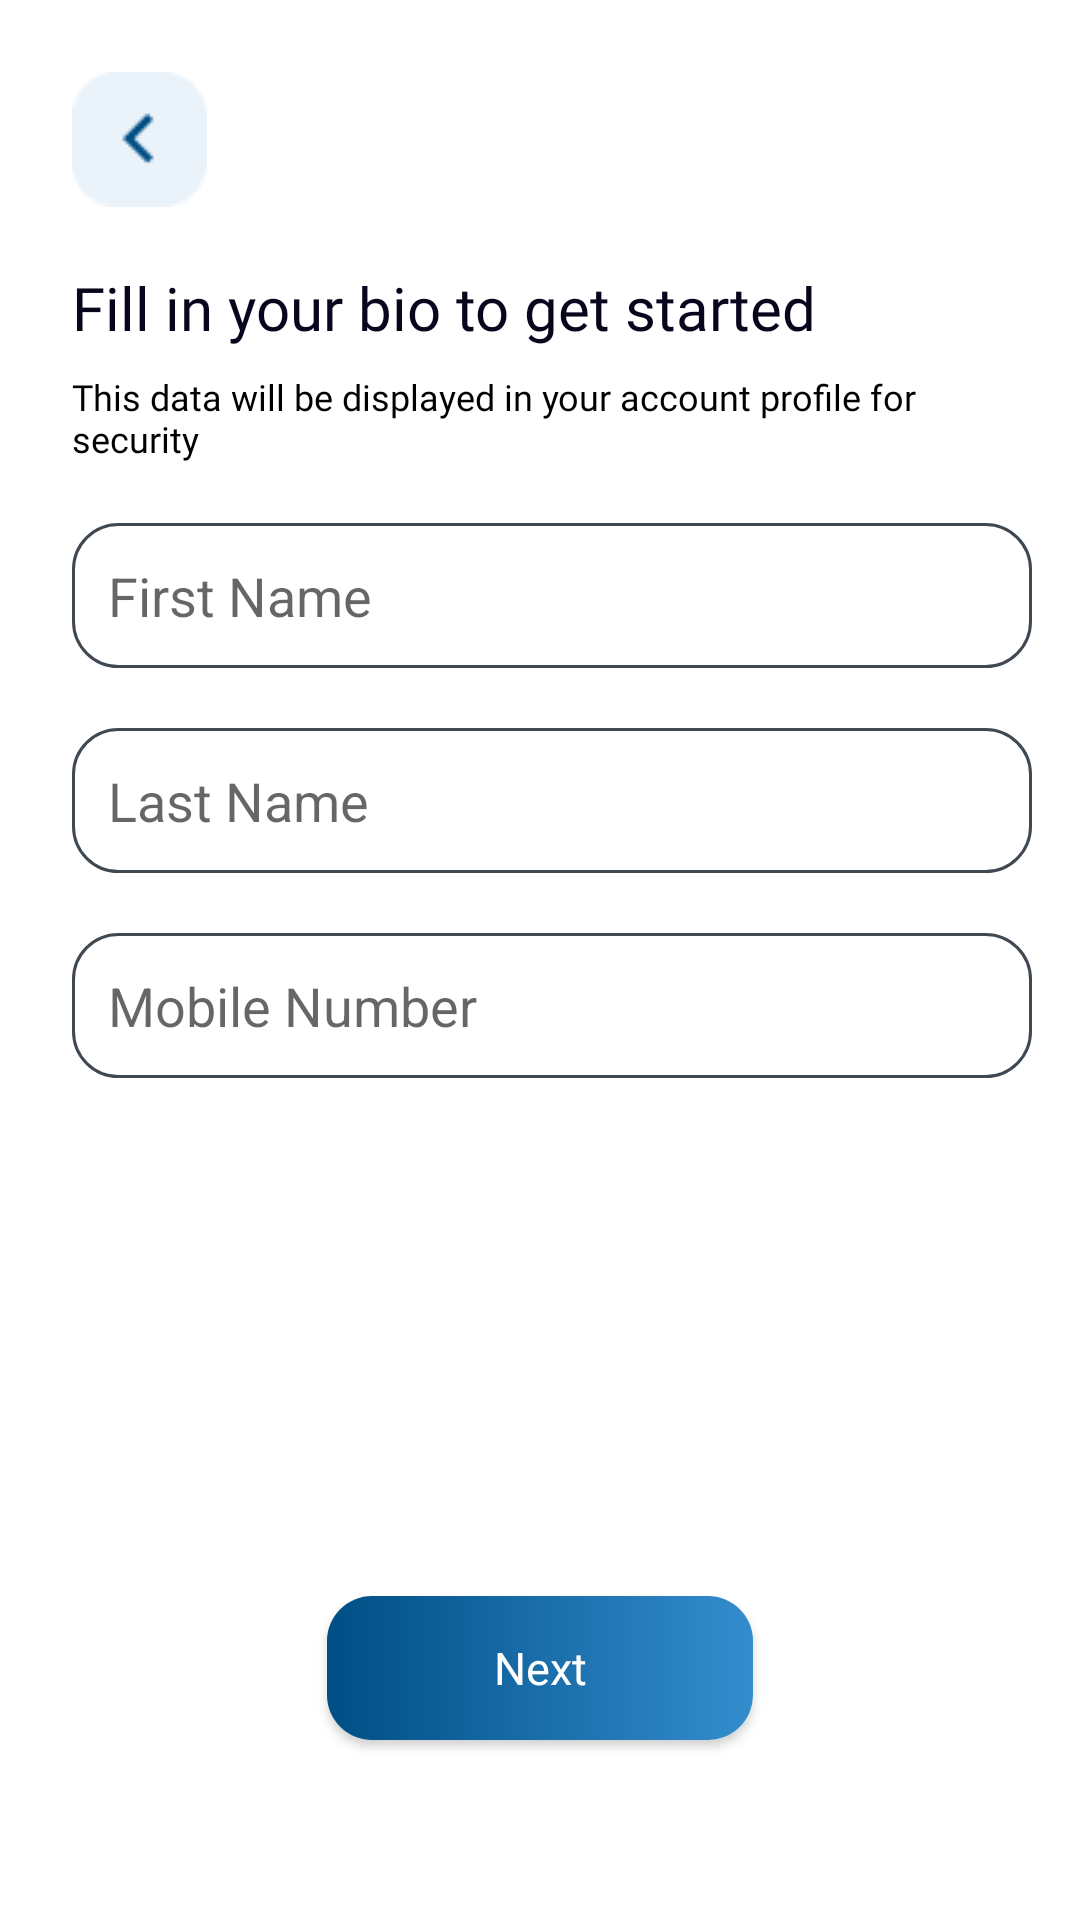

Where to tap for icons on this 1080×1920 app screen, as (x,y):
back: (138,139)
